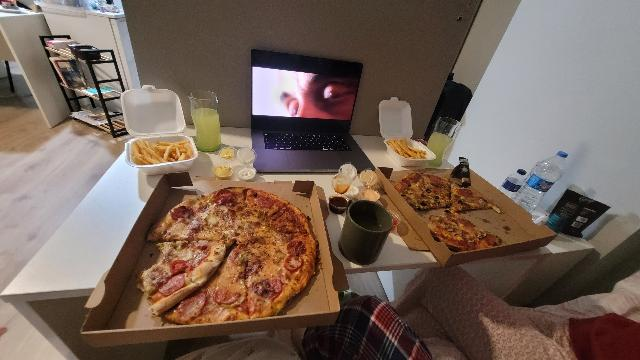Cam: (188, 88, 222, 152), (426, 115, 460, 172)
Kagit: (80, 174, 340, 349), (377, 164, 555, 267)
Organik: (151, 189, 317, 320), (397, 174, 490, 212), (424, 207, 497, 250), (131, 138, 191, 161), (390, 139, 426, 159), (216, 167, 231, 179), (333, 197, 347, 208), (241, 170, 254, 179), (366, 191, 378, 199)
Plastik: (122, 88, 196, 175), (379, 95, 434, 167), (330, 171, 348, 217), (238, 145, 257, 184), (216, 147, 237, 181), (454, 155, 471, 187)
